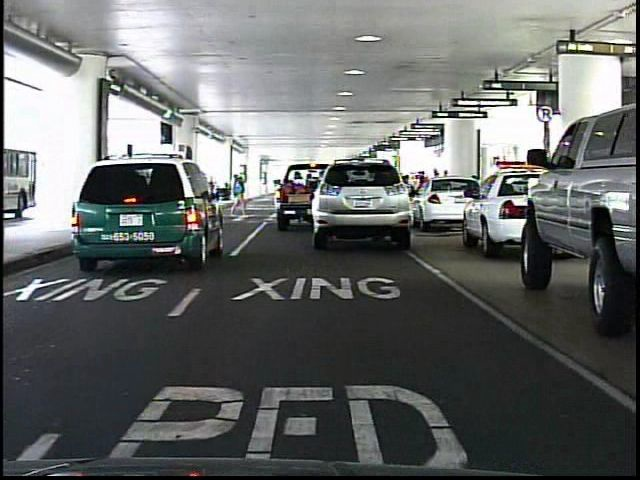person: (228, 168, 252, 222)
